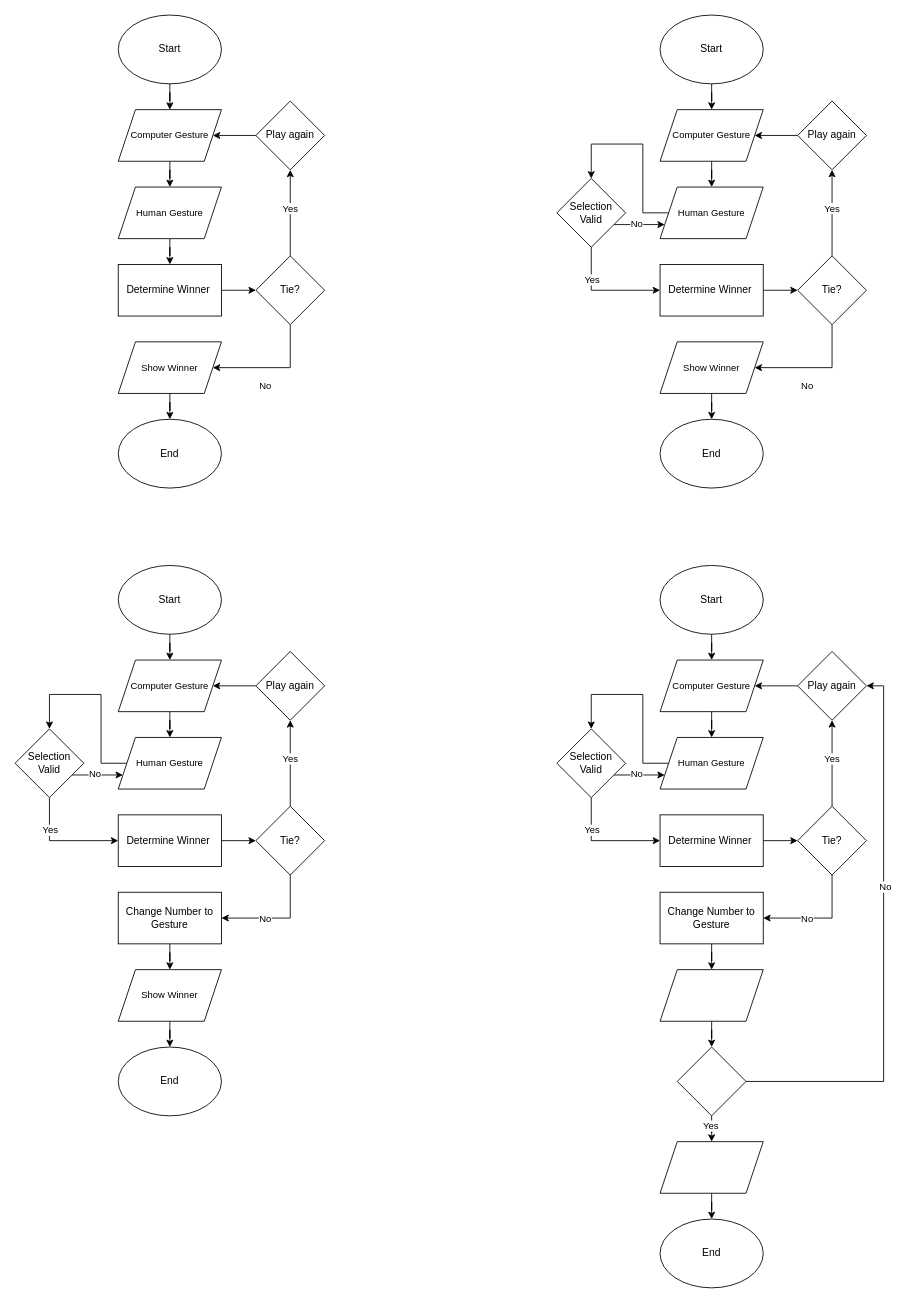
This 906x1303 diagram has some shape labels left out. The shapes that lost their labels are listed below. From the top down, each one's centre as x and y in pixels, then its label:
At [711,995]: "Show Round Winner".
At [711,1081]: "3 Rounds or Score of 2".
At [711,1167]: "Show Game Winner".
